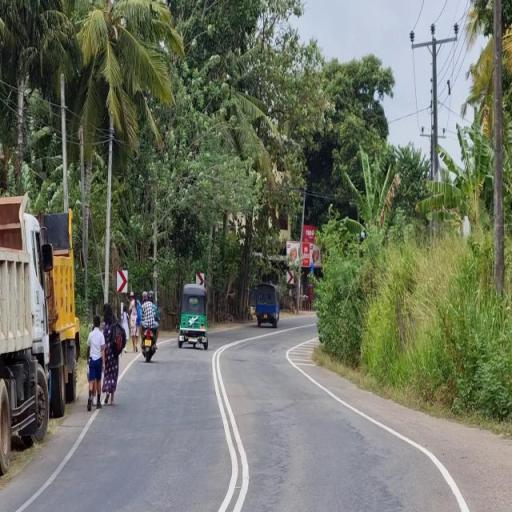double_white_line: (290, 336, 466, 510), (210, 339, 252, 512)
